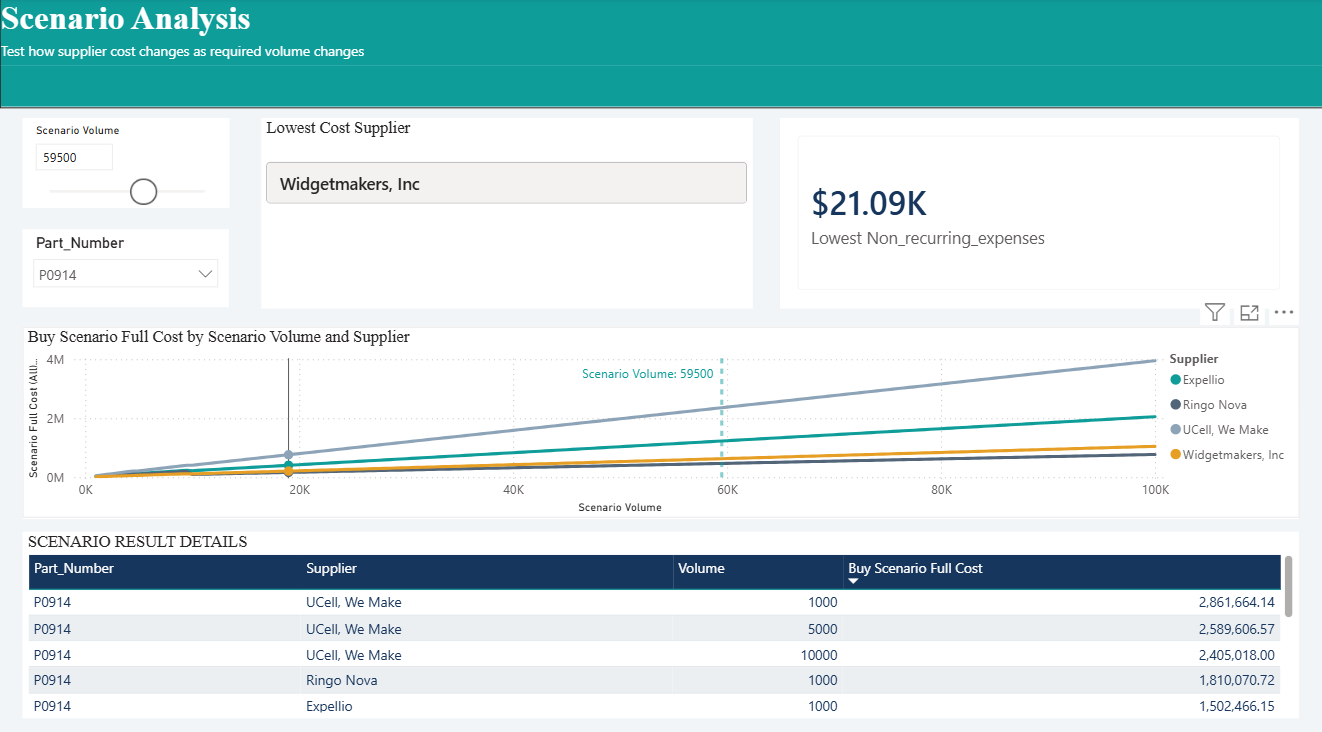

The dashboard page shown, as its layout file describes it:
{"tool":"powerbi","page":{"name":"Scenario Analysis","canvas":[1280,720],"ordinal":1},"visuals":[{"type":"slicer","fields":{"Values":["Scenario Volume.Scenario Volume"]},"box":[22,115.3,199,86.4],"z":0},{"type":"tableEx","title":"SCENARIO RESULT DETAILS","fields":{"Values":["Quotes.Part_Number","Quotes.Supplier","Quotes.Volume","Scenario Volume.Scenario_Full-Cost"]},"box":[21.7,515.2,1231.8,179.8],"z":1000},{"type":"cardVisual","title":"Lowest ","fields":{"Data":["Sum(Quotes.Non_recurring_expenses)"]},"box":[753.3,115.3,500.9,183.9],"z":2000},{"type":"lineChart","title":"Buy Scenario Full Cost  by Scenario Volume and Supplier","fields":{"Series":["Quotes.Supplier"],"Category":["Scenario Volumes (All).Scenario Volume"],"Y":["Scenario Volumes (All).Scenario Full Cost (All) Buy"]},"box":[22,317,1232.3,185.2],"z":3000},{"type":"slicer","fields":{"Values":["Quotes.Part_Number"]},"box":[22,223.7,199,75.5],"z":4000},{"type":"cardVisual","title":"Lowest Cost Supplier","fields":{"Rows":["Quotes.Supplier"]},"box":[252.5,115.3,474.8,183.9],"z":5000},{"type":"shape","title":"Scenario Analysis","box":[0,0,1280,106.2],"z":6000}]}

Visuals, with their boxes in screenshot pixels (x1, y1, x2, y2), scaled from the page's 1280x720 canvas onto the 1322x732 screenshot:
slicer - Scenario Volume.Scenario Volume: <region>23, 117, 228, 205</region>
"SCENARIO RESULT DETAILS" tableEx: <region>22, 524, 1295, 707</region>
"Lowest " cardVisual: <region>778, 117, 1295, 304</region>
"Buy Scenario Full Cost  by Scenario Volume and Supplier" lineChart: <region>23, 322, 1295, 511</region>
slicer - Quotes.Part_Number: <region>23, 227, 228, 304</region>
"Lowest Cost Supplier" cardVisual: <region>261, 117, 751, 304</region>
"Scenario Analysis" shape: <region>0, 0, 1321, 108</region>
